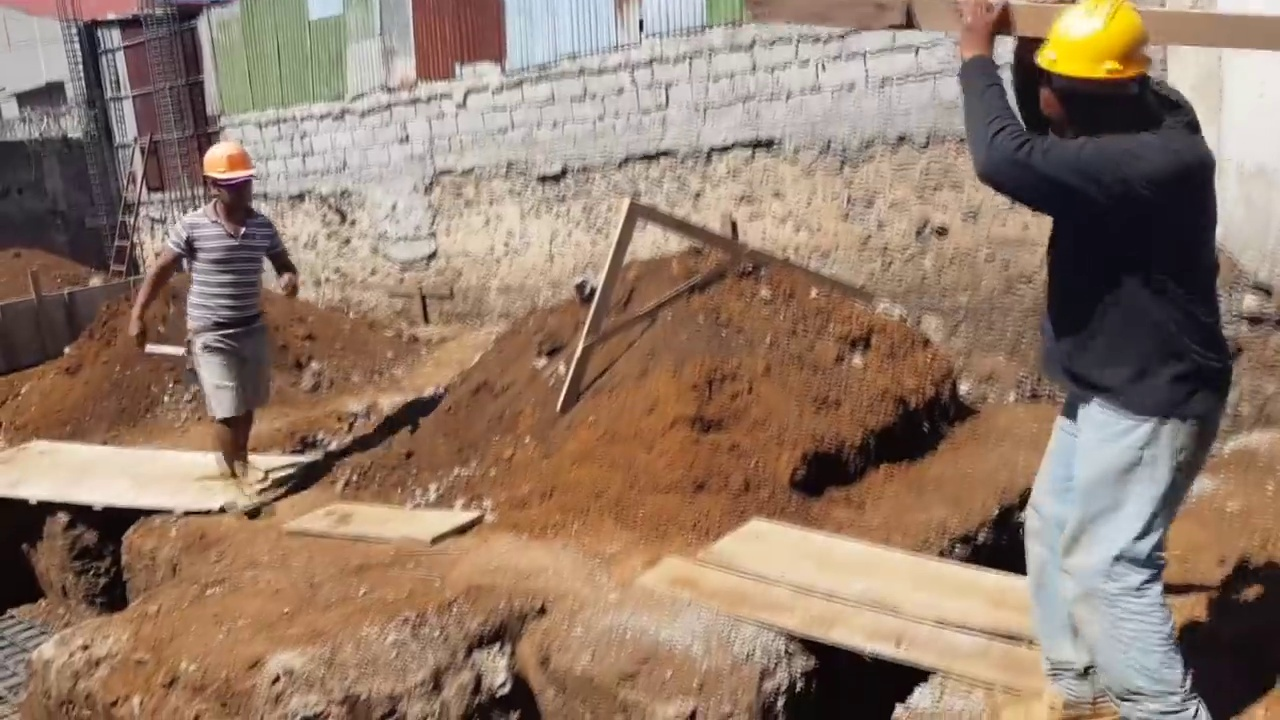helmet: (1030, 2, 1155, 80), (200, 137, 261, 183)
helmet-on: (1023, 5, 1168, 142), (199, 132, 264, 228)
person: (952, 4, 1236, 718), (124, 134, 301, 489)
